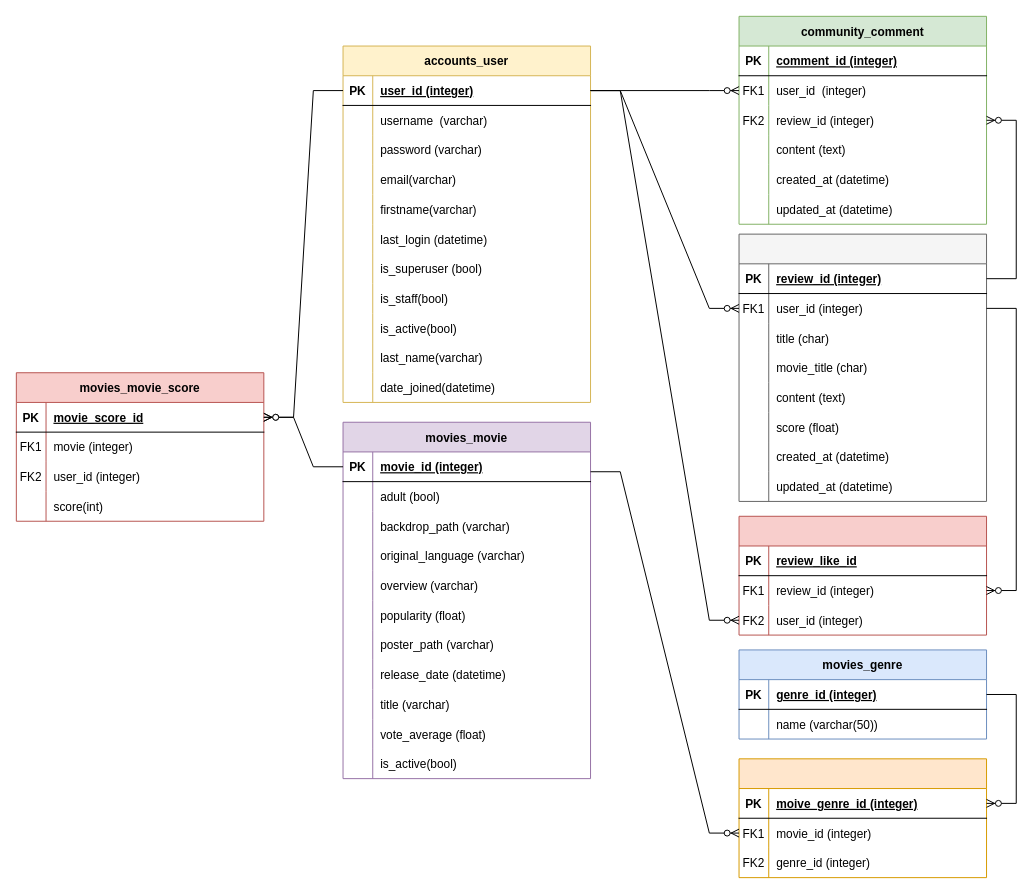
Some shapes in this 1033 by 894 pixel diagram are drawn without their labels. Here are the shapes that lost their labels. From the top down, the box of each, then its label:
(738, 233, 987, 501): community_review
(738, 515, 987, 635): community_review_like
(738, 758, 987, 878): movies_movie_genre
